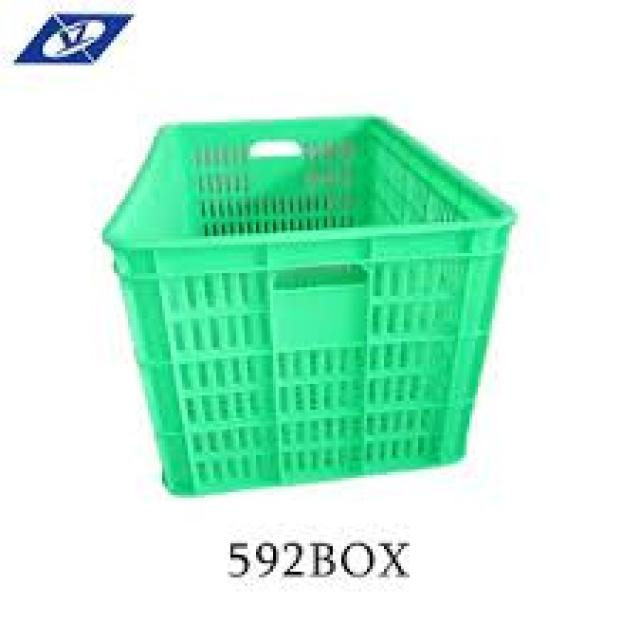basket: (94, 85, 547, 504)
